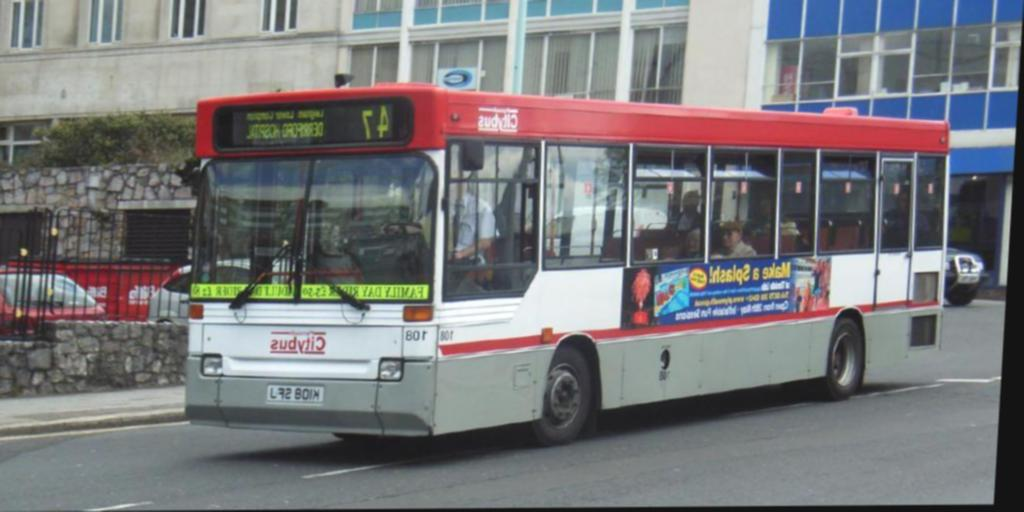License_Plate: (264, 383, 324, 406)
